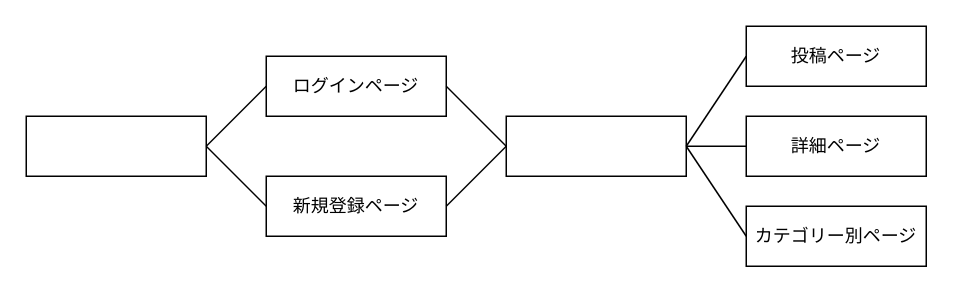
The diagram is 953 pixels wide and 293 high, and some of its shapes have lost their labels. Here are the shapes that lost their labels. From the top down, the box of each, then its label:
(25, 115, 206, 176): TOPページ
(505, 115, 686, 176): マイページ 一覧ページ
